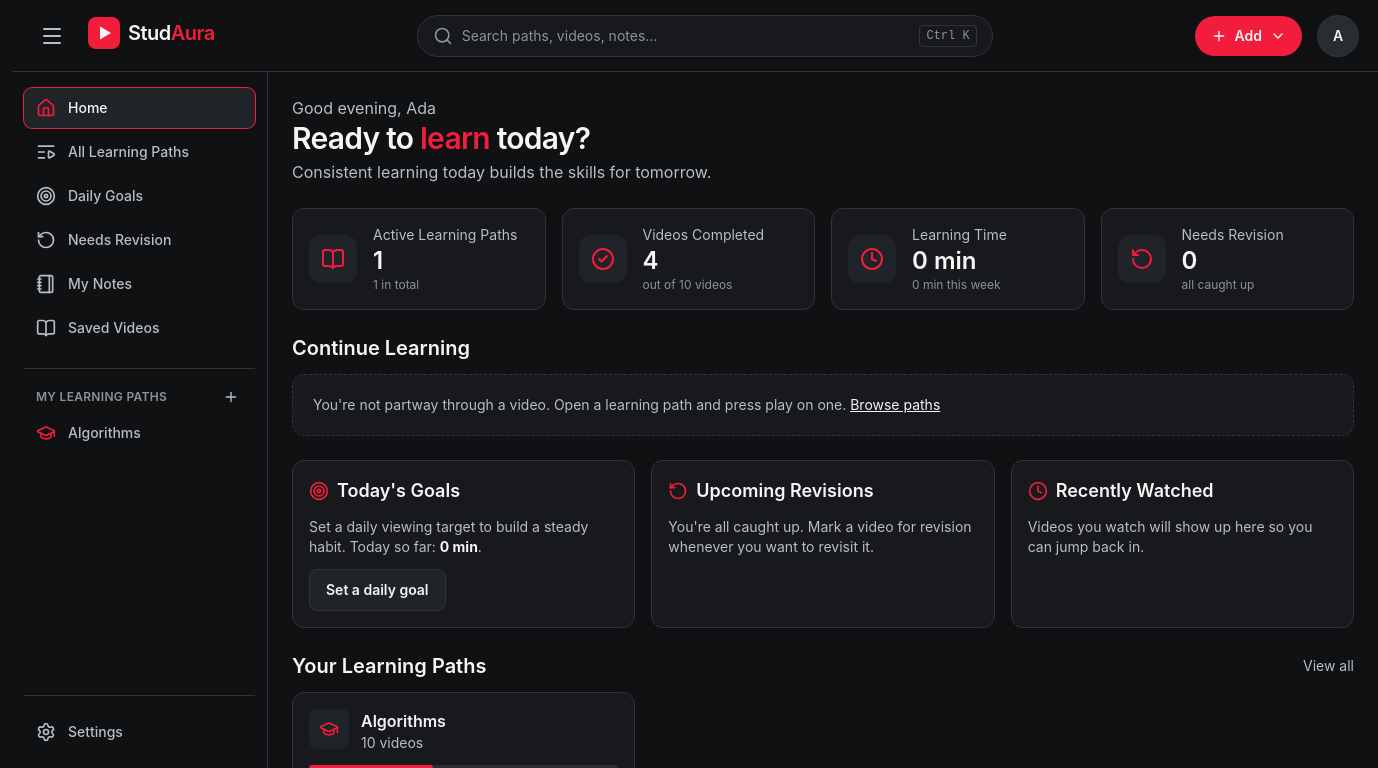
Test: learning paths section › keeps the path cards and a View all link
The image size is (1378, 768).
Click the link "View all". click: (1328, 666)
box: [1303,656,1354,676]
(page scrolled)
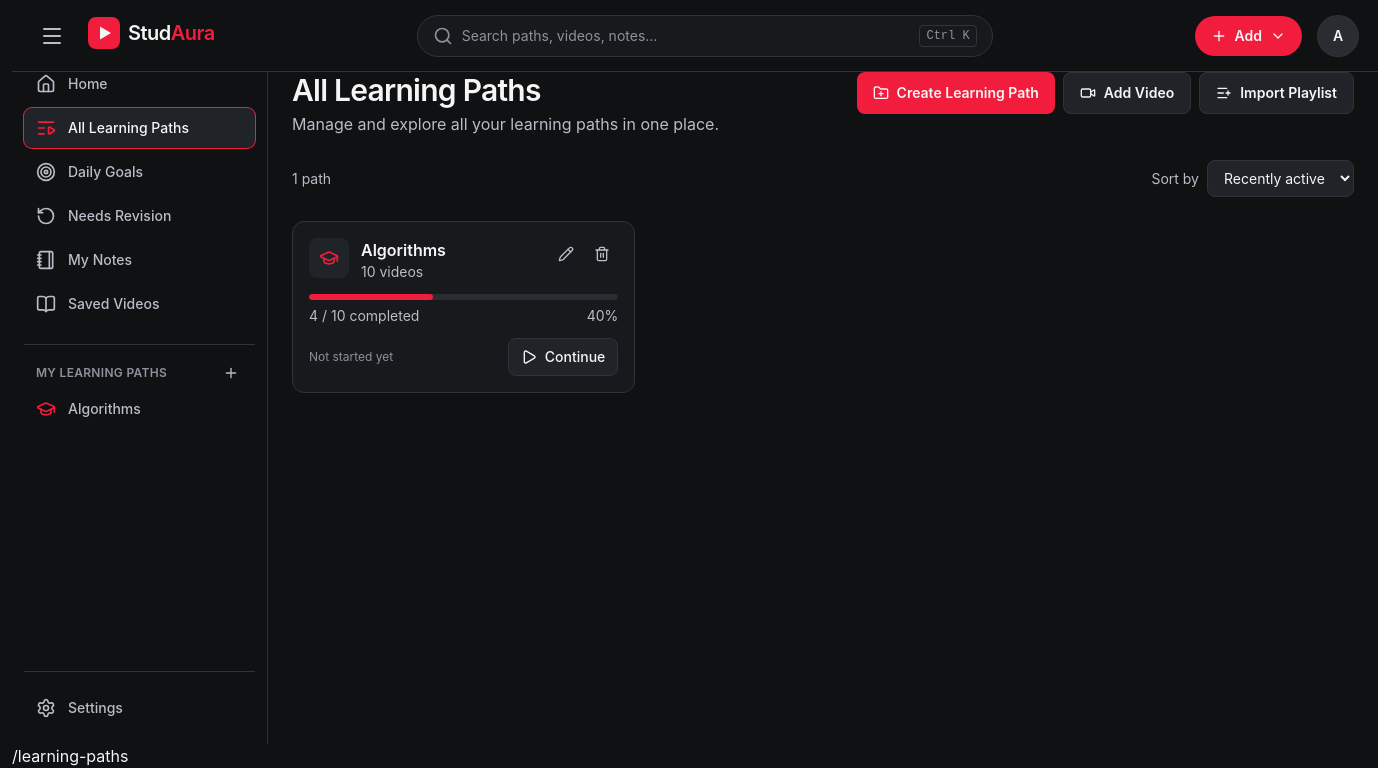
Now the text with test id "location" reads "/learning-paths", box [12,746,128,766]
